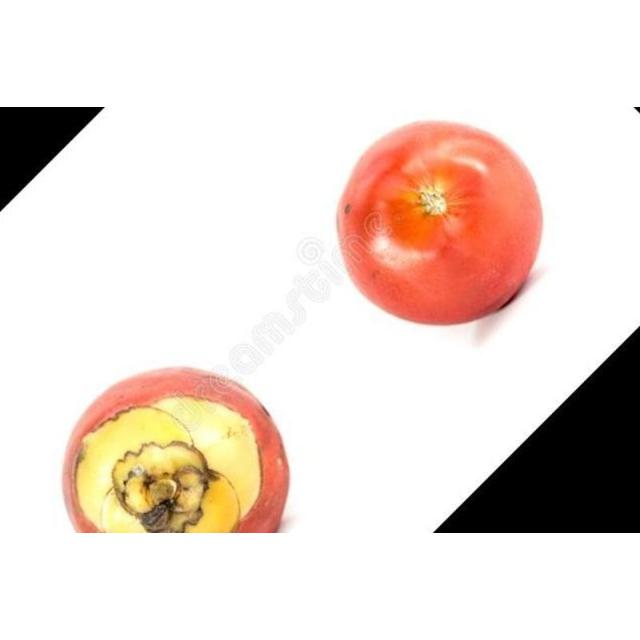good: (335, 121, 545, 327), (58, 366, 292, 533)
